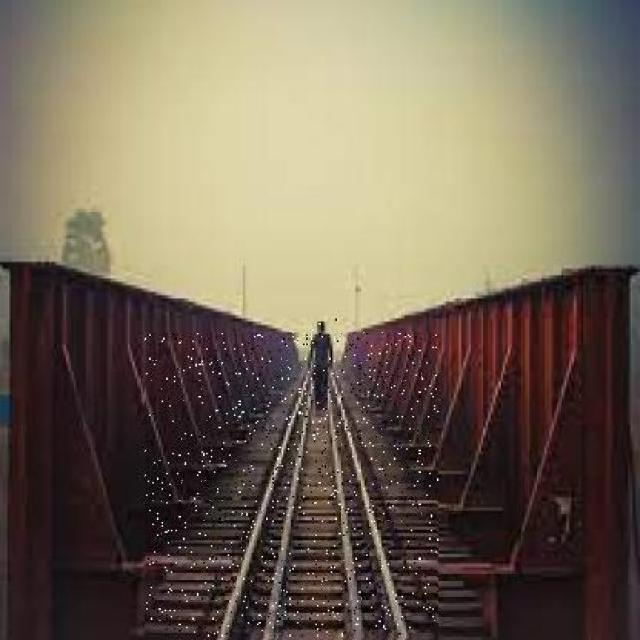rail: (146, 335, 438, 637)
